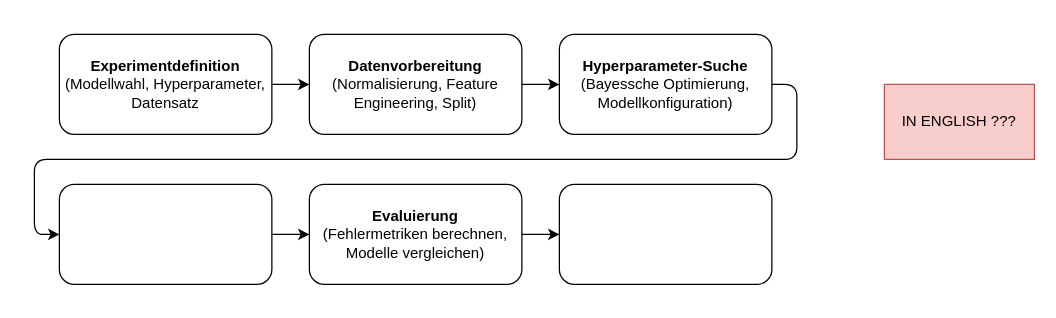
Image size: 1056x318. Some labels were removed from this diagram. The centre of each missing label's shape, as x and y in pixels:
Ergebnisanalyse (Modellleistung interpretieren, Visualisierung): the point at 665,233
Training (Forward/Backward-Pass, Konvergenz): the point at 165,233
